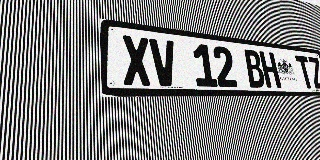1: (191, 43, 218, 87)
2: (212, 45, 238, 87)
B: (243, 49, 266, 88)
H: (259, 51, 282, 88)
T: (295, 55, 315, 89)
V: (149, 38, 179, 86)
X: (121, 35, 152, 86)
Z: (307, 57, 320, 89)
